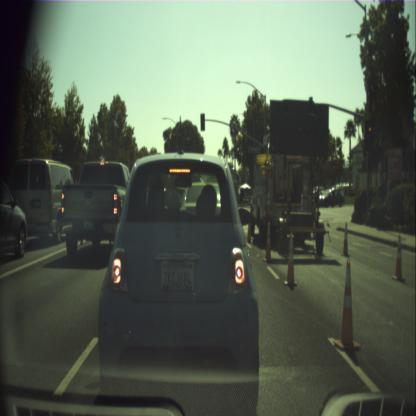Red: (364, 121, 374, 144)
off: (200, 114, 204, 130)
